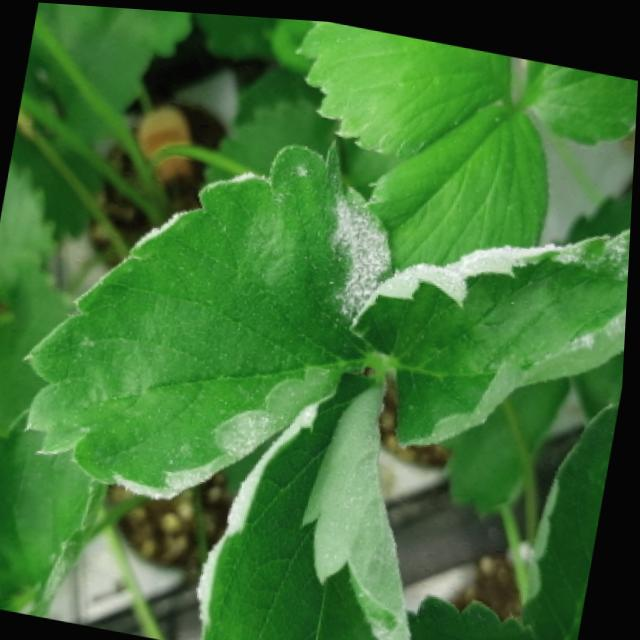Powdery Mildew Leaf: (25, 133, 397, 497), (349, 219, 632, 443), (198, 360, 416, 640), (0, 406, 107, 617)
